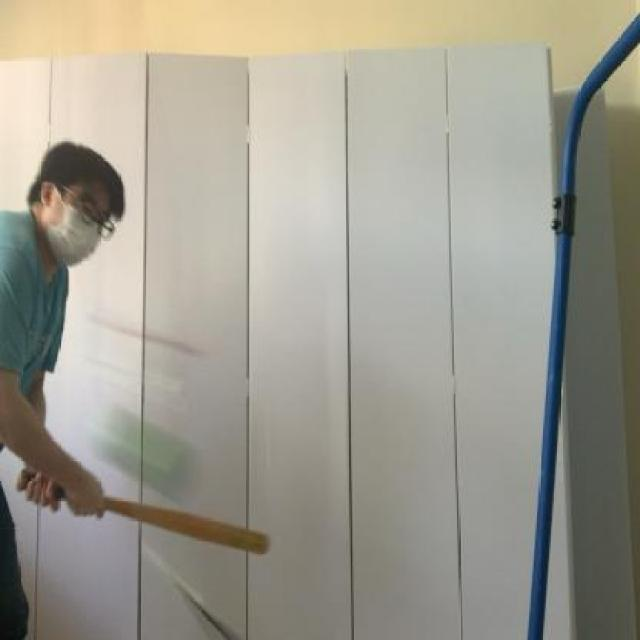baseball: (85, 397, 204, 503)
